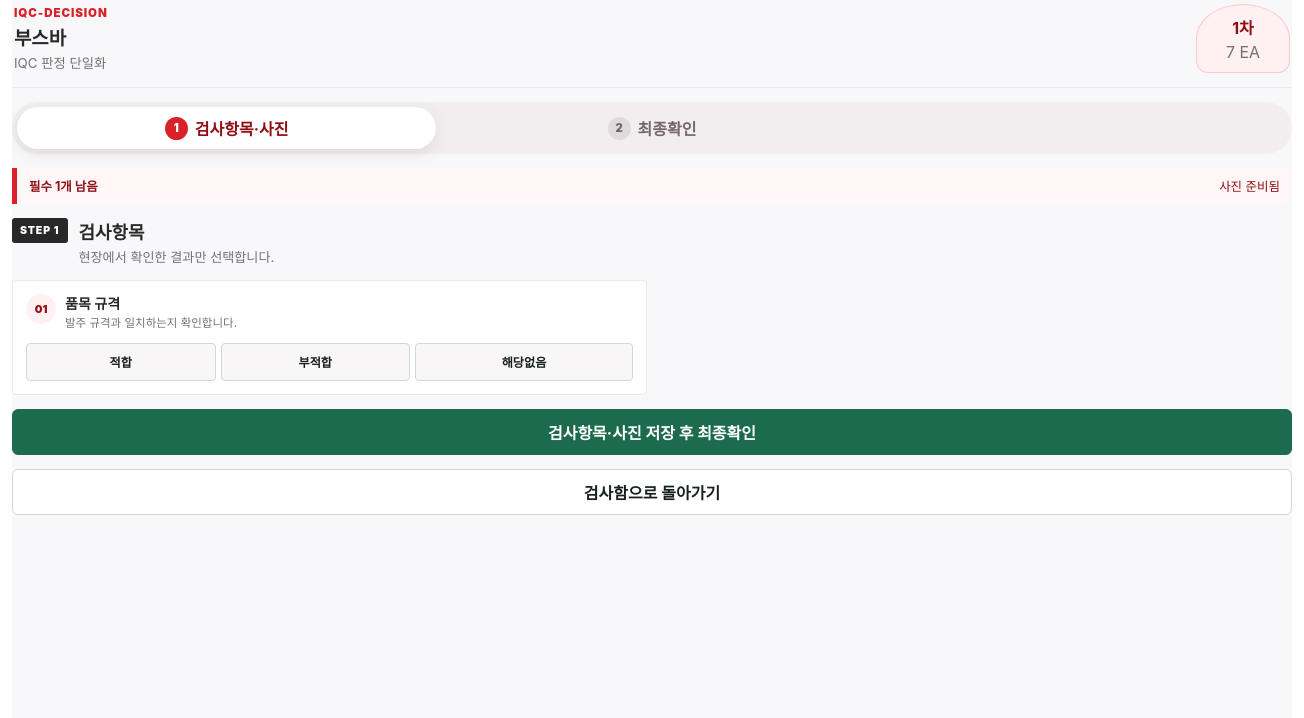
it: IqcReportWorkspace › shows only the Pass-derived final action
Click the button "적합" at (121, 362), box top-left (26, 342), bottom-right (216, 380)
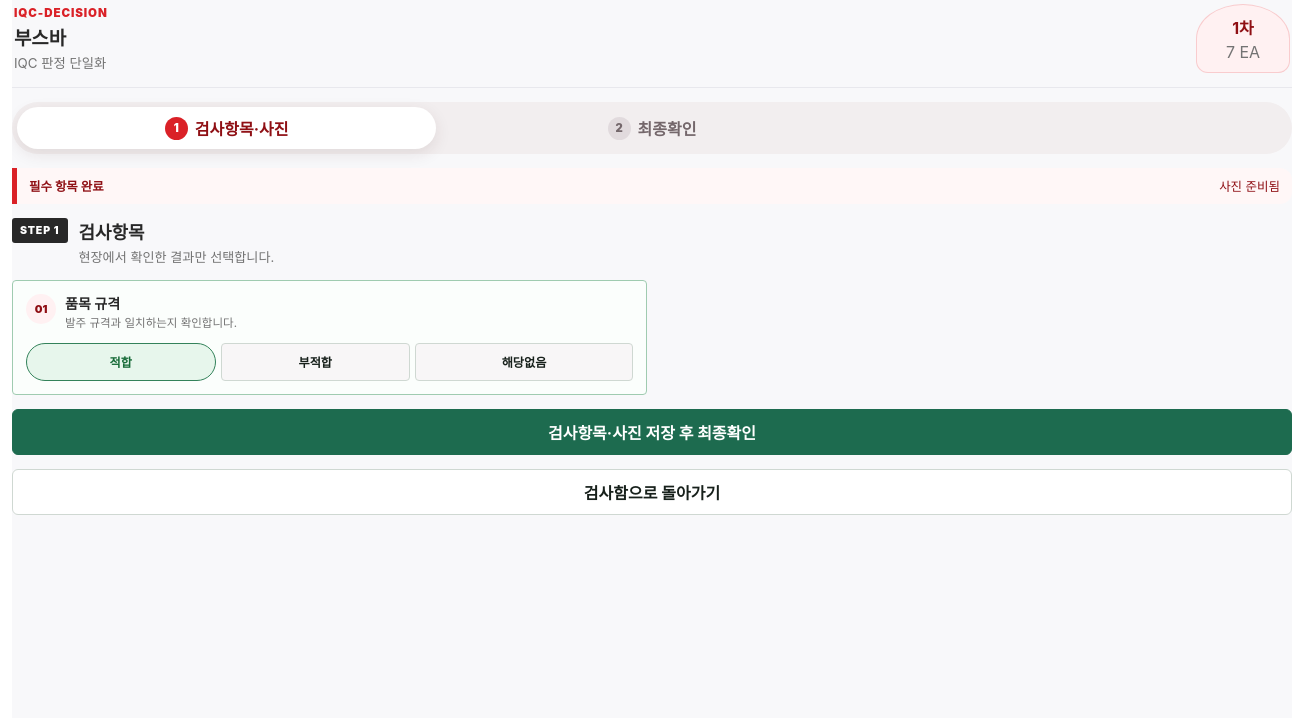
Click the button "검사항목·사진 저장 후 최종확인" at (652, 432), box top-left (12, 408), bottom-right (1292, 454)
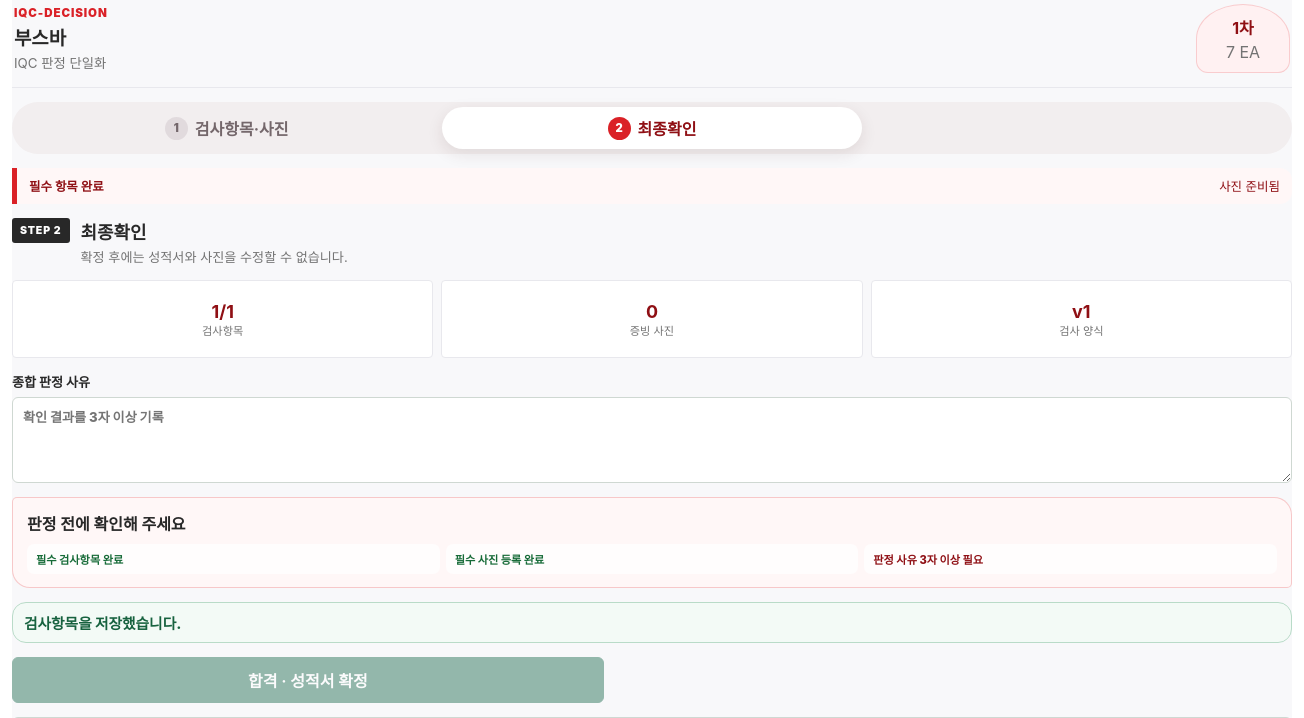
Check: the button "합격 · 성적서 확정" is shown, box top-left (12, 657), bottom-right (604, 703)
